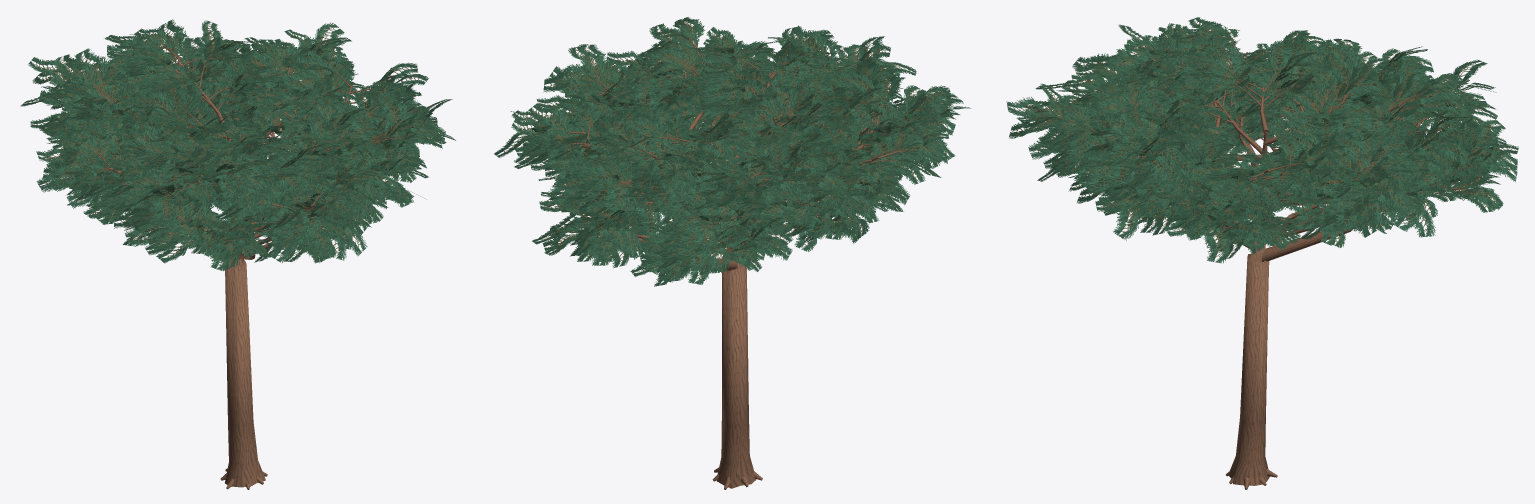
The model's file is pine_near.glb.
3 renders of one model, left to right at view 1: azimuth 30°, elevation 25°; view 2: azimuth 150°, elevation 25°; view 3: azimuth 270°, elevation 25°, orthographic. The views are drawn at different scales.
Parts seen in each view (by area): view 1: pine_near; view 2: pine_near; view 3: pine_near.
Part boxes in pixels (box(x1,y1,x2,y2)): pine_near: box(20, 19, 455, 489); pine_near: box(494, 17, 970, 489); pine_near: box(1006, 17, 1518, 489).
Bounding box in the file's own units: 9.58 × 9.48 × 10.71.
2 materials, 2 textured.
